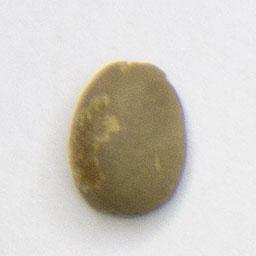premium: (64, 57, 190, 220)
